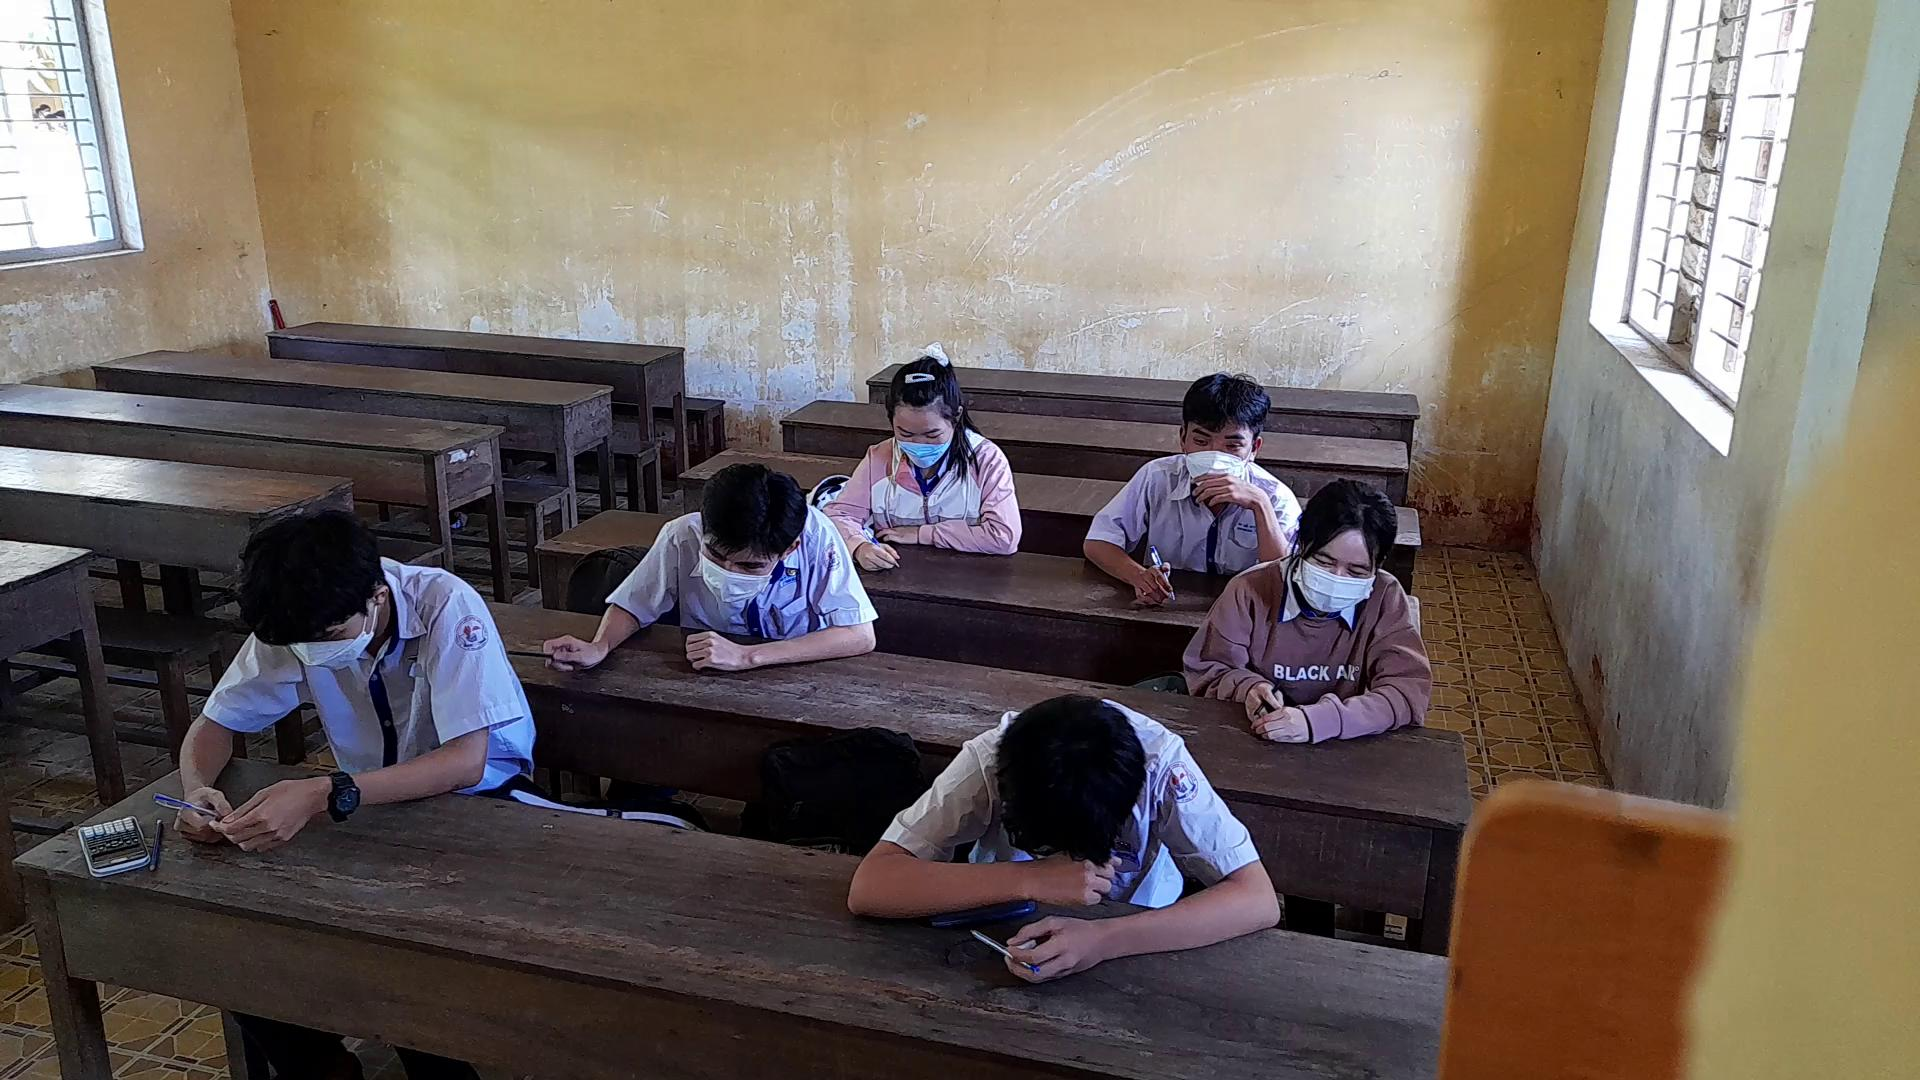Bend Over The Desk: (994, 688, 1153, 866), (862, 336, 990, 489)
Normal: (164, 488, 534, 847), (531, 440, 885, 682), (1068, 364, 1323, 605)
Wave: (1185, 469, 1283, 564)
